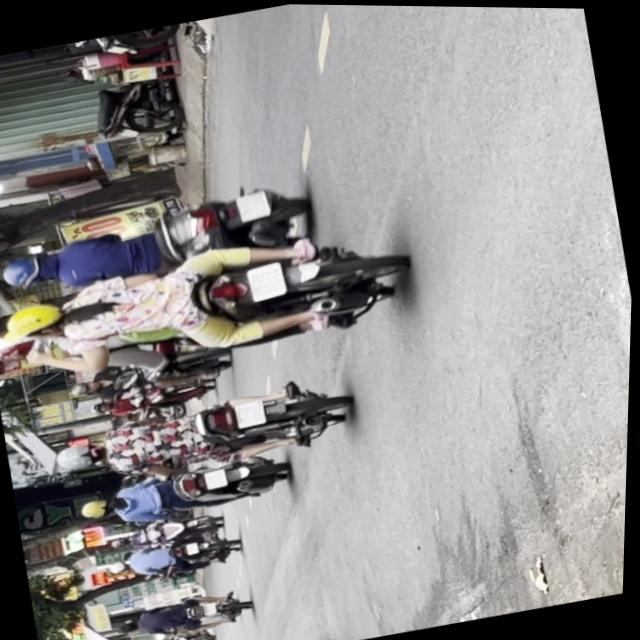helmet: (4, 299, 73, 342), (0, 247, 62, 292), (52, 437, 109, 475), (0, 328, 45, 366), (79, 495, 119, 523), (69, 378, 101, 398)
licenseplate: (0, 210, 416, 401), (0, 172, 321, 313), (47, 367, 358, 497), (77, 448, 295, 535), (64, 340, 238, 409)
nohelmet: (246, 261, 289, 301), (234, 188, 273, 222), (235, 399, 267, 429), (205, 468, 229, 489)
